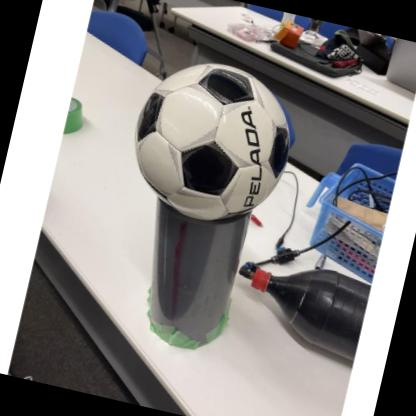ball: (119, 48, 305, 236)
